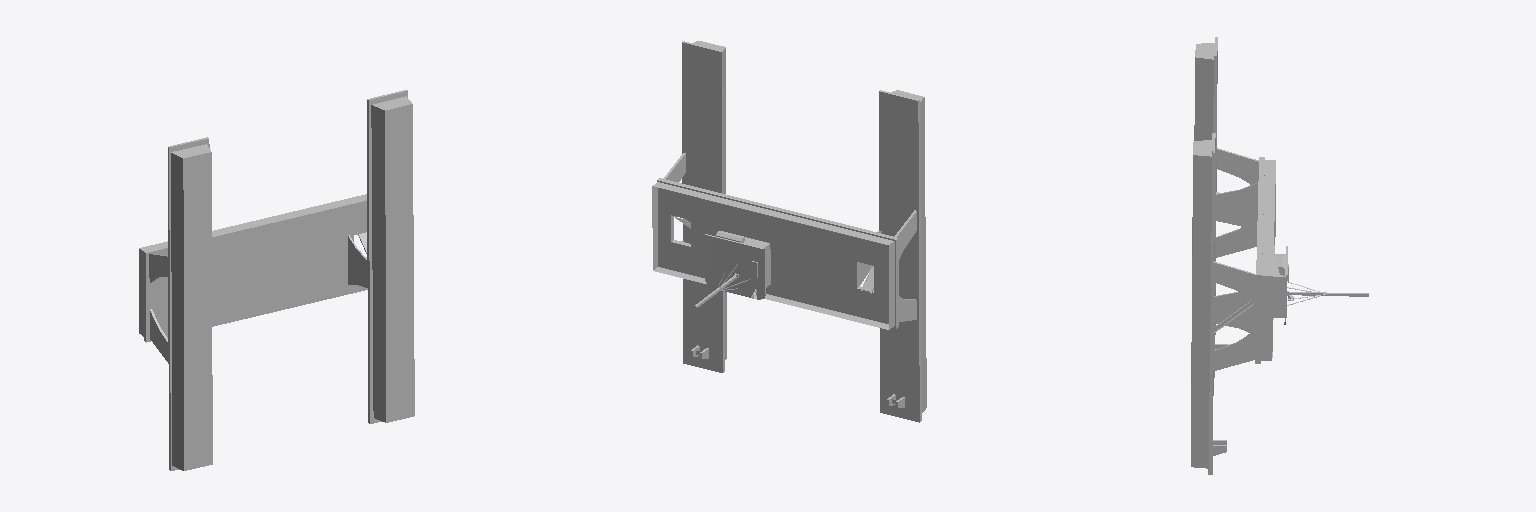
Rendered from polygon0.690.obj.
3 views of the same model, side by side, from view 1: azimuth 30°, elevation 25°; view 2: azimuth 150°, elevation 25°; view 3: azimuth 270°, elevation 25° (orthographic).
Visible parts, largest first — view 1: tugboat; view 2: tugboat; view 3: tugboat.
Boxes of the visible parts, x1=… form: tugboat: x1=139, y1=90, x2=414, y2=470; tugboat: x1=652, y1=41, x2=926, y2=422; tugboat: x1=1191, y1=37, x2=1368, y2=474.
Size of the model in its own units: 204 by 261 by 131.